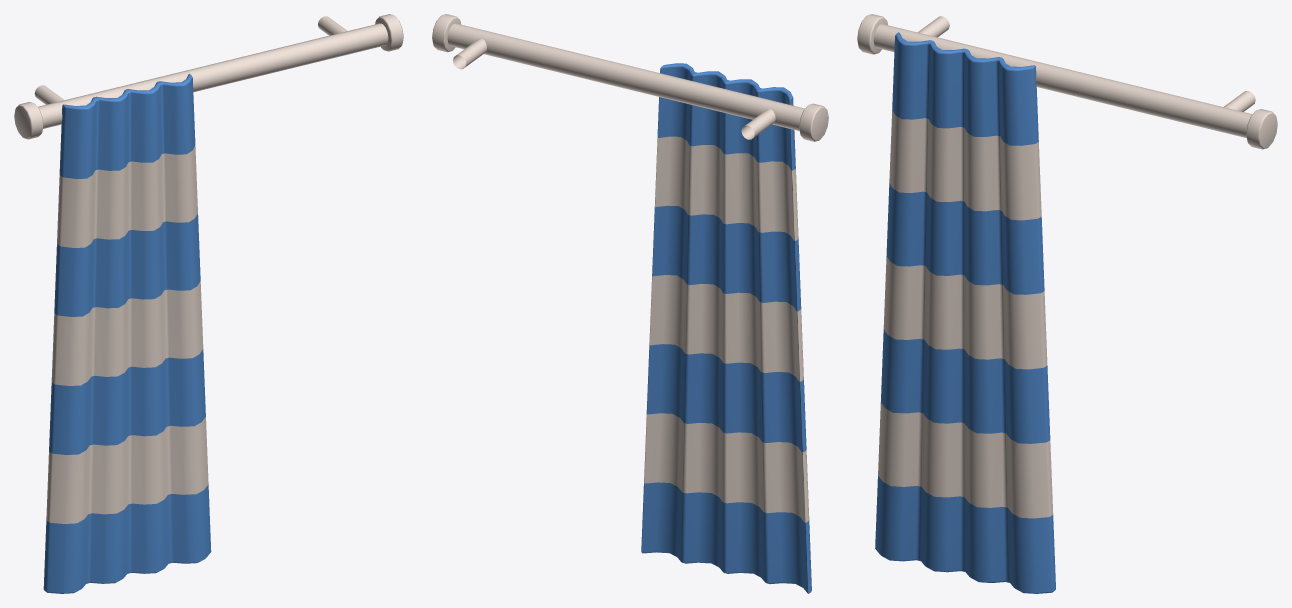
The model's file is Curtains_6.glb.
3 renders of one model, left to right at view 1: azimuth 30°, elevation 25°; view 2: azimuth 150°, elevation 25°; view 3: azimuth 330°, elevation 25°, orthographic. The views are drawn at different scales.
Visible parts, largest first — view 1: Curtains_6; view 2: Curtains_6; view 3: Curtains_6.
Boxes of the visible parts, bbox=[...] form: Curtains_6: bbox=[14, 14, 403, 593]; Curtains_6: bbox=[432, 14, 828, 593]; Curtains_6: bbox=[857, 14, 1277, 593].
Bounding box in the file's own units: 2.37 × 2.95 × 0.4599.
Materials: 1 (1 with a texture image).
